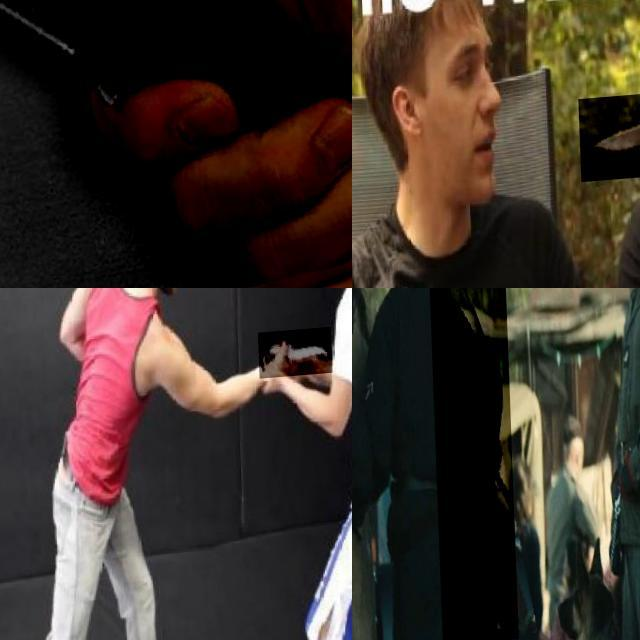-: (0, 0, 352, 288), (576, 93, 640, 187), (256, 335, 331, 386)
gun-knife-thesis - v11 Yolov5 augmented: (423, 288, 514, 640), (352, 288, 392, 640)
